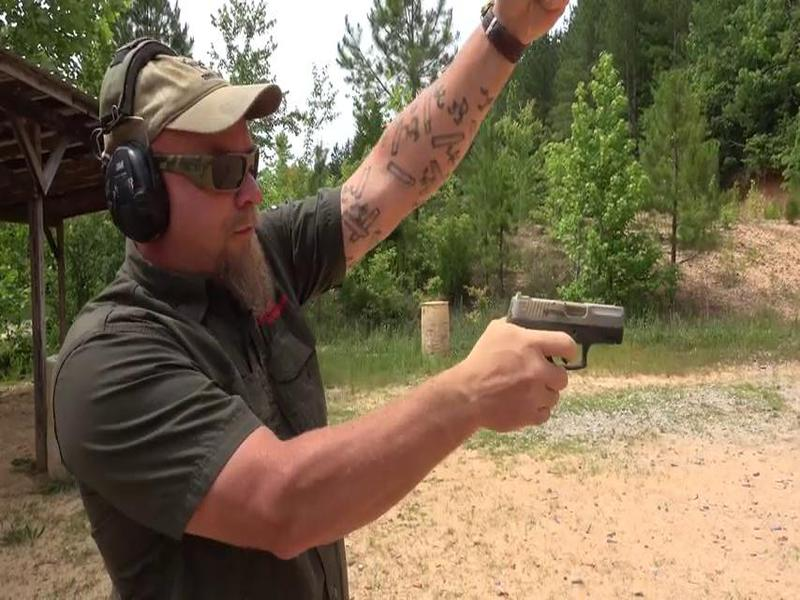Pistola: (487, 276, 637, 415)
